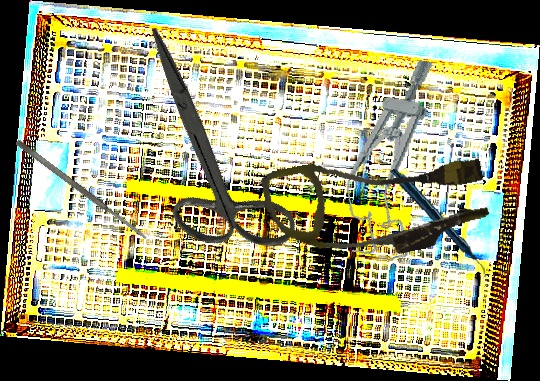Cannula: (259, 132, 495, 277)
Handpiece: (390, 160, 487, 287)
Iris Scissors: (70, 27, 346, 282)
Spatula Surgical: (14, 138, 149, 242)
Speculum: (332, 50, 449, 265)
